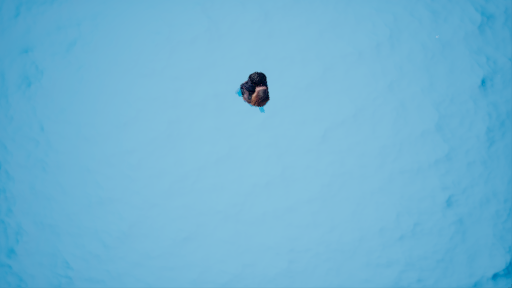person: (233, 68, 274, 114)
